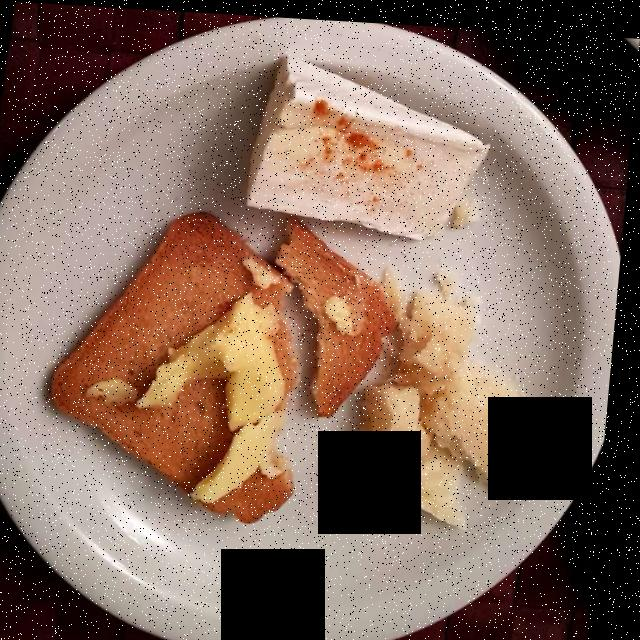parmesan: (368, 273, 546, 514)
soft-cheese: (232, 54, 475, 237)
